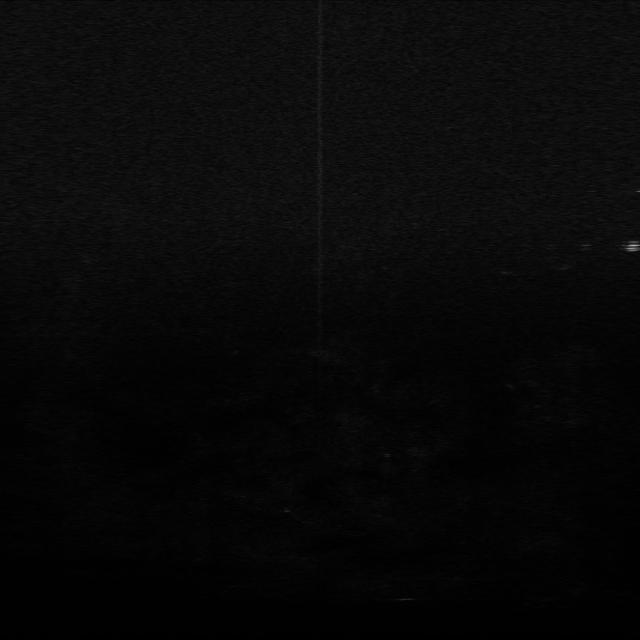rov: (623, 240, 639, 258)
